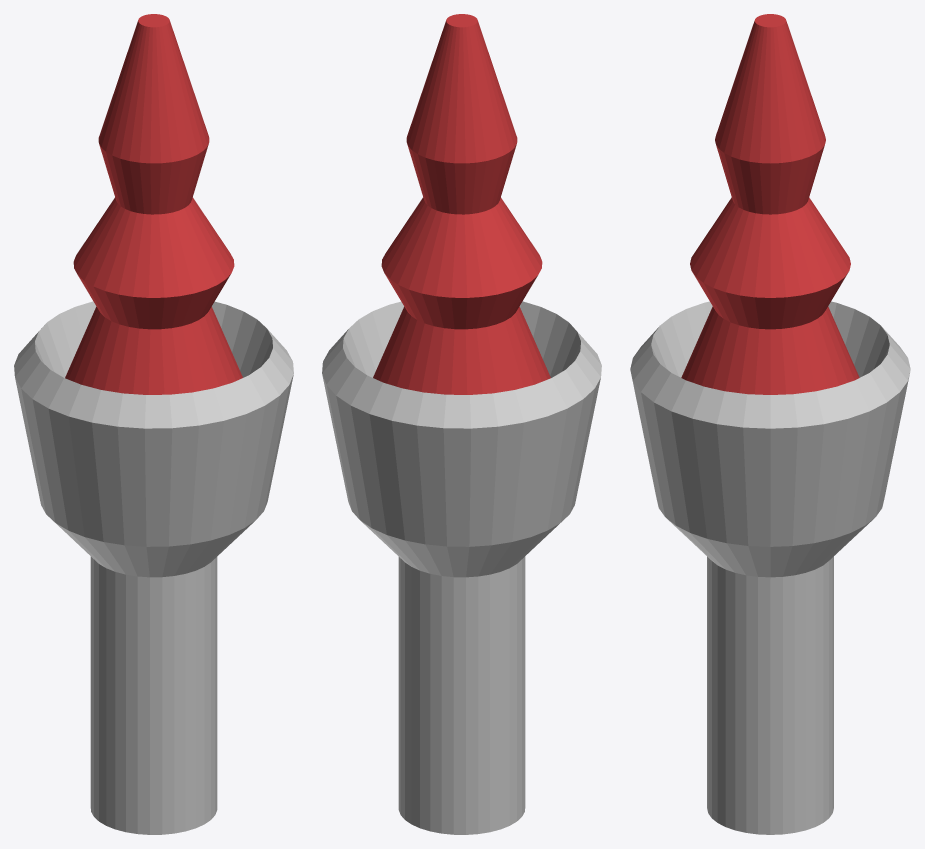
Rendered from ramp.fbx.
3 renders of one model, left to right at view 1: azimuth 30°, elevation 25°; view 2: azimuth 150°, elevation 25°; view 3: azimuth 270°, elevation 25°, orthographic.
Parts seen in each view (by area): view 1: Cylinder; view 2: Cylinder; view 3: Cylinder.
Boxes of the visible parts, x1,y1,x2,y2 form: Cylinder: [14, 14, 293, 834]; Cylinder: [322, 14, 601, 834]; Cylinder: [630, 14, 910, 834].
Size of the model in its own units: 112 by 346 by 112.
